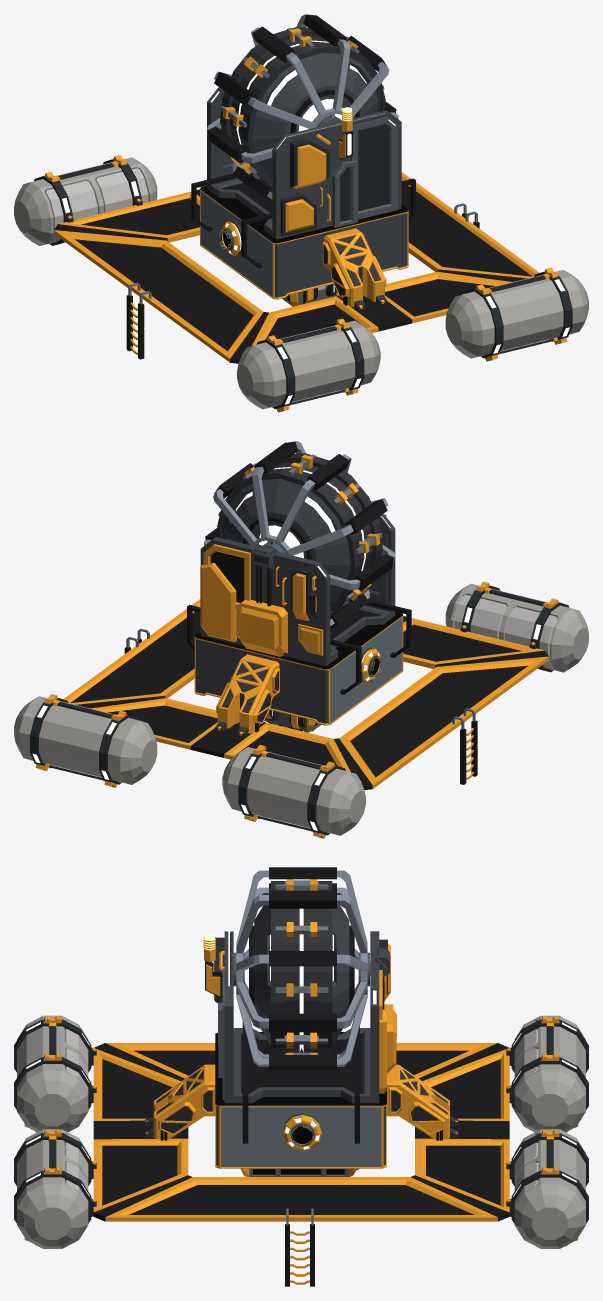
File: SM_Turbine_platform.glb
3 renders of one model, top to bottom at view 1: azimuth 30°, elevation 25°; view 2: azimuth 150°, elevation 25°; view 3: azimuth 270°, elevation 25°, orthographic. The views are drawn at different scales.
Parts seen in each view (by area): view 1: SM_Turbine_platform, SM_Turbine, SM_Turbine_wheel; view 2: SM_Turbine_platform, SM_Turbine, SM_Turbine_wheel; view 3: SM_Turbine_platform, SM_Turbine, SM_Turbine_wheel.
Boxes of the visible parts, x1=… form: SM_Turbine_platform: x1=14, y1=155, x2=588, y2=412; SM_Turbine: x1=191, y1=87, x2=415, y2=306; SM_Turbine_wheel: x1=207, y1=14, x2=398, y2=201; SM_Turbine_platform: x1=14, y1=581, x2=588, y2=838; SM_Turbine: x1=187, y1=514, x2=411, y2=732; SM_Turbine_wheel: x1=204, y1=441, x2=395, y2=628; SM_Turbine_platform: x1=14, y1=1015, x2=588, y2=1286; SM_Turbine: x1=203, y1=931, x2=396, y2=1176; SM_Turbine_wheel: x1=233, y1=867, x2=370, y2=1069.
Bounding box in the file's own units: 13.65 × 10.84 × 17.95.
Materials: 3 (1 with a texture image).
